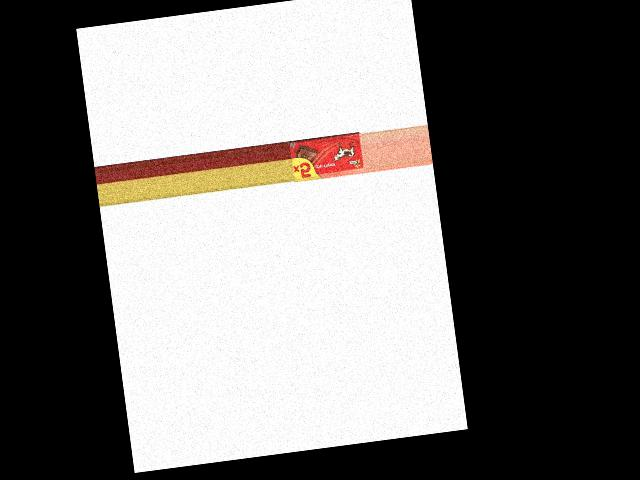chocolate: (289, 132, 367, 183)
